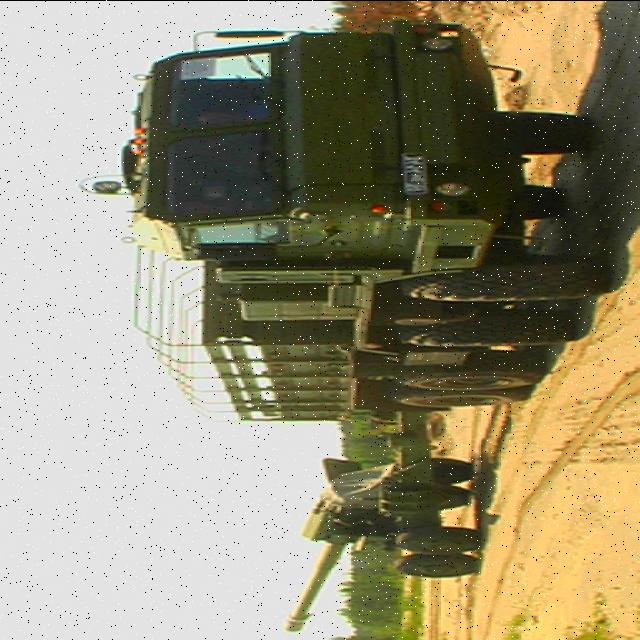ART: (278, 455, 478, 634)
TRUCK: (115, 15, 617, 423)
